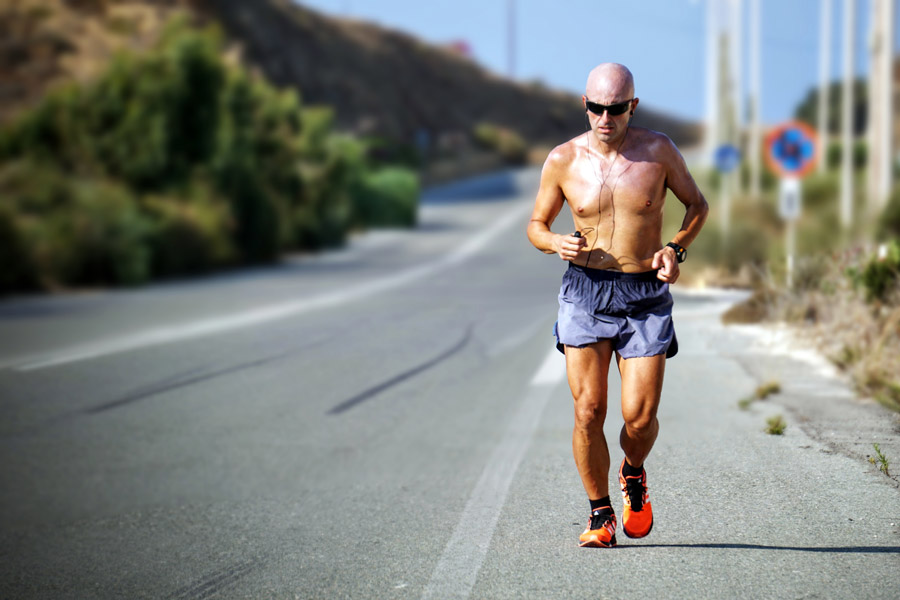male: (523, 61, 711, 551)
